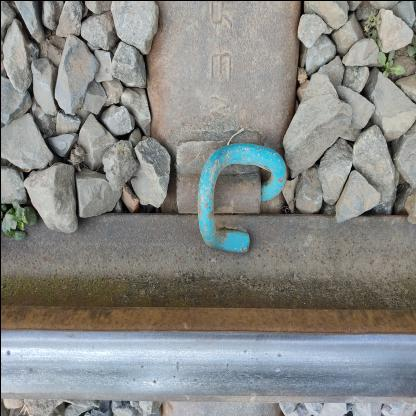Non Defective: (161, 99, 311, 267)
